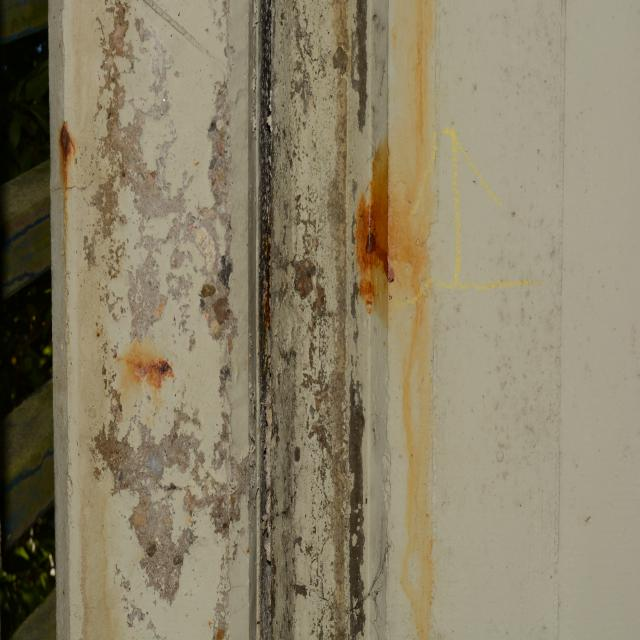corrosion: (354, 0, 464, 640), (109, 333, 194, 428), (55, 105, 88, 261), (261, 282, 273, 335), (152, 294, 168, 326), (205, 619, 227, 640), (183, 490, 194, 526), (245, 546, 251, 556), (132, 634, 135, 640)
